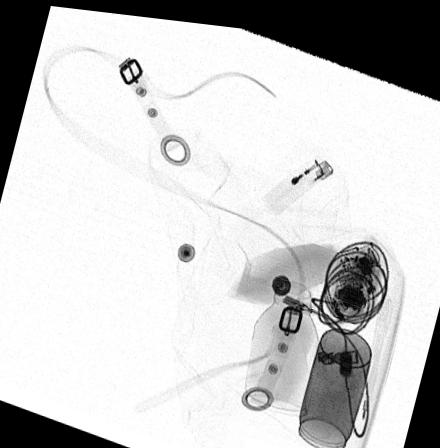Lighter: (260, 148, 332, 205)
